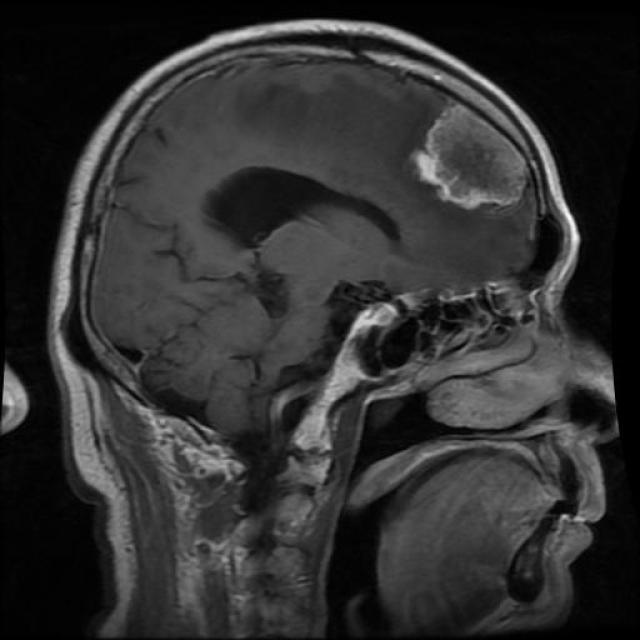meningioma: (414, 104, 529, 209)
